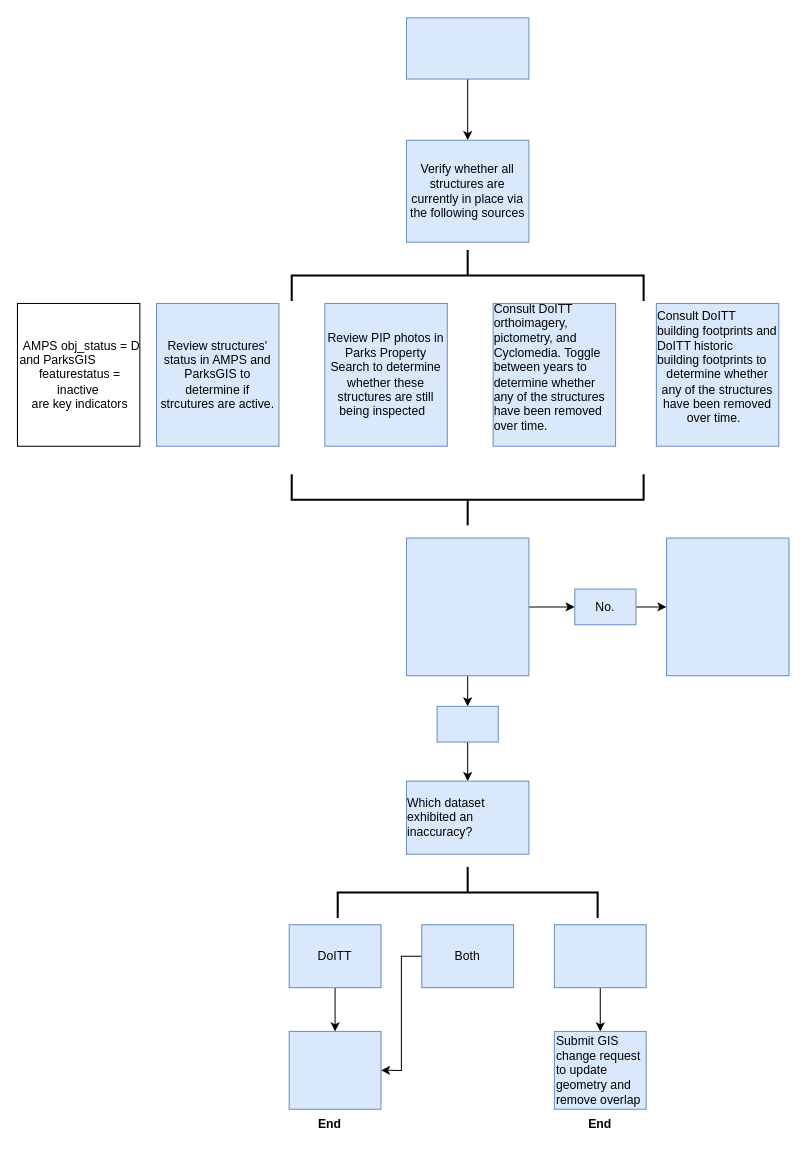
The diagram is 808 pixels wide and 1153 high, and some of its shapes have lost their labels. Each missing label, with the centre of its shape:
"Did any of these sources provide conclusive evidence?" goes at point 467,606.
"Parks structure overlapping another Parks structure" goes at point 467,48.
"ParksGIS" goes at point 599,956.
"Site visit required." goes at point 727,606.
"Submit CSCL request to update geometry" goes at point 334,1069.
"Yes." goes at point 467,723.
